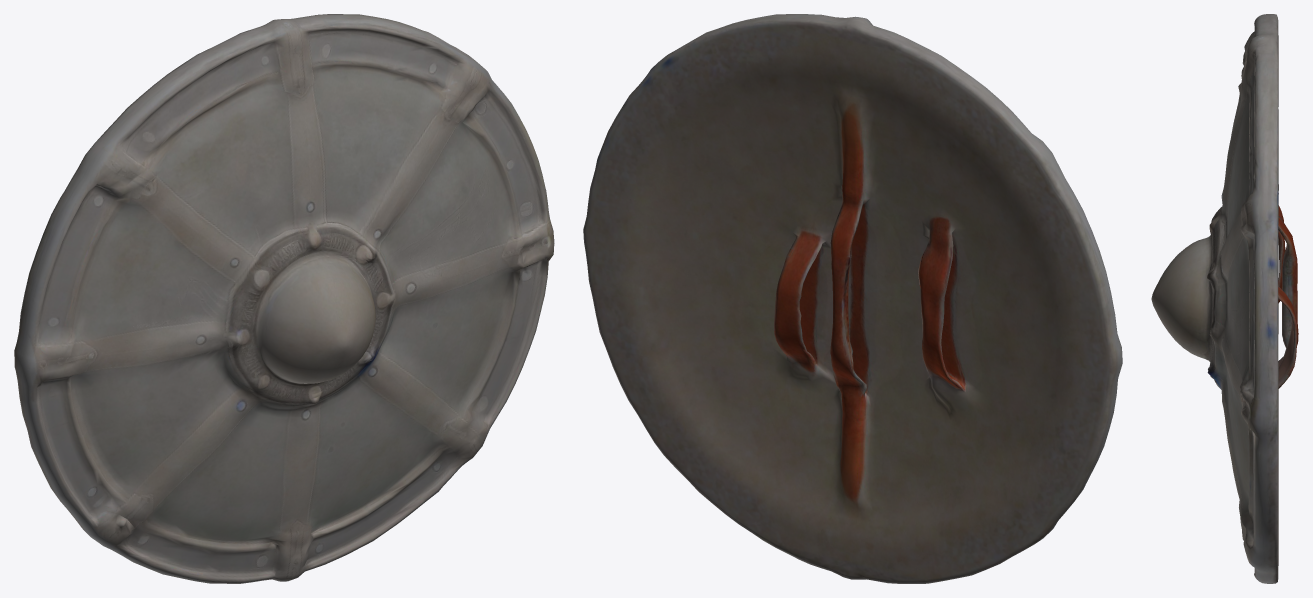
The model's file is Bronze Shield.glb.
The picture shows the model from 3 angles, left to right: view 1: azimuth 30°, elevation 25°; view 2: azimuth 150°, elevation 25°; view 3: azimuth 270°, elevation 25°; orthographic projection. The views are drawn at different scales.
Parts seen in each view (by area): view 1: file1; view 2: file1; view 3: file1.
Part boxes in pixels (x1,y1,x2,y2): file1: [14, 14, 554, 583]; file1: [583, 14, 1122, 583]; file1: [1151, 14, 1298, 583].
Size of the model in its own units: 2 by 2 by 0.5099.
1 material, 1 textured.
